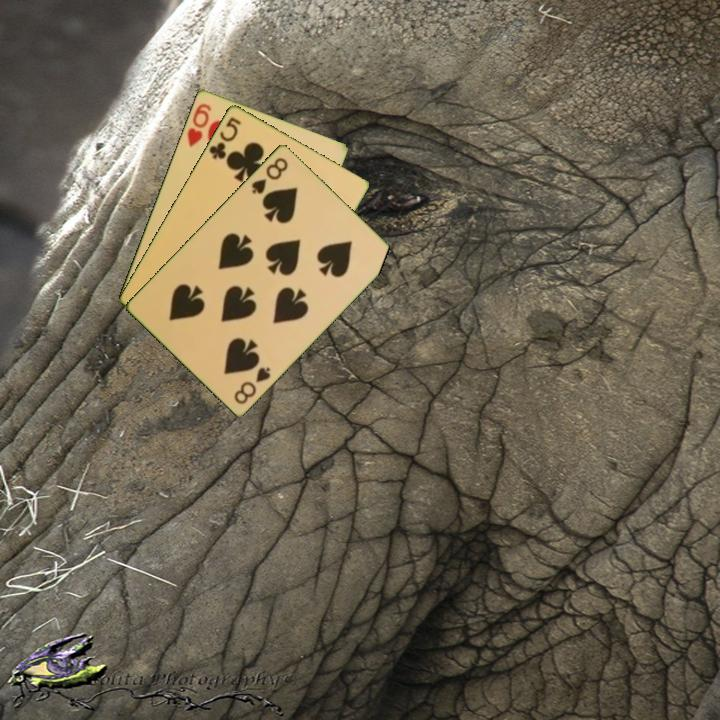5c: (205, 113, 244, 162)
6h: (183, 99, 214, 150)
8s: (230, 363, 274, 407), (248, 154, 291, 197)
